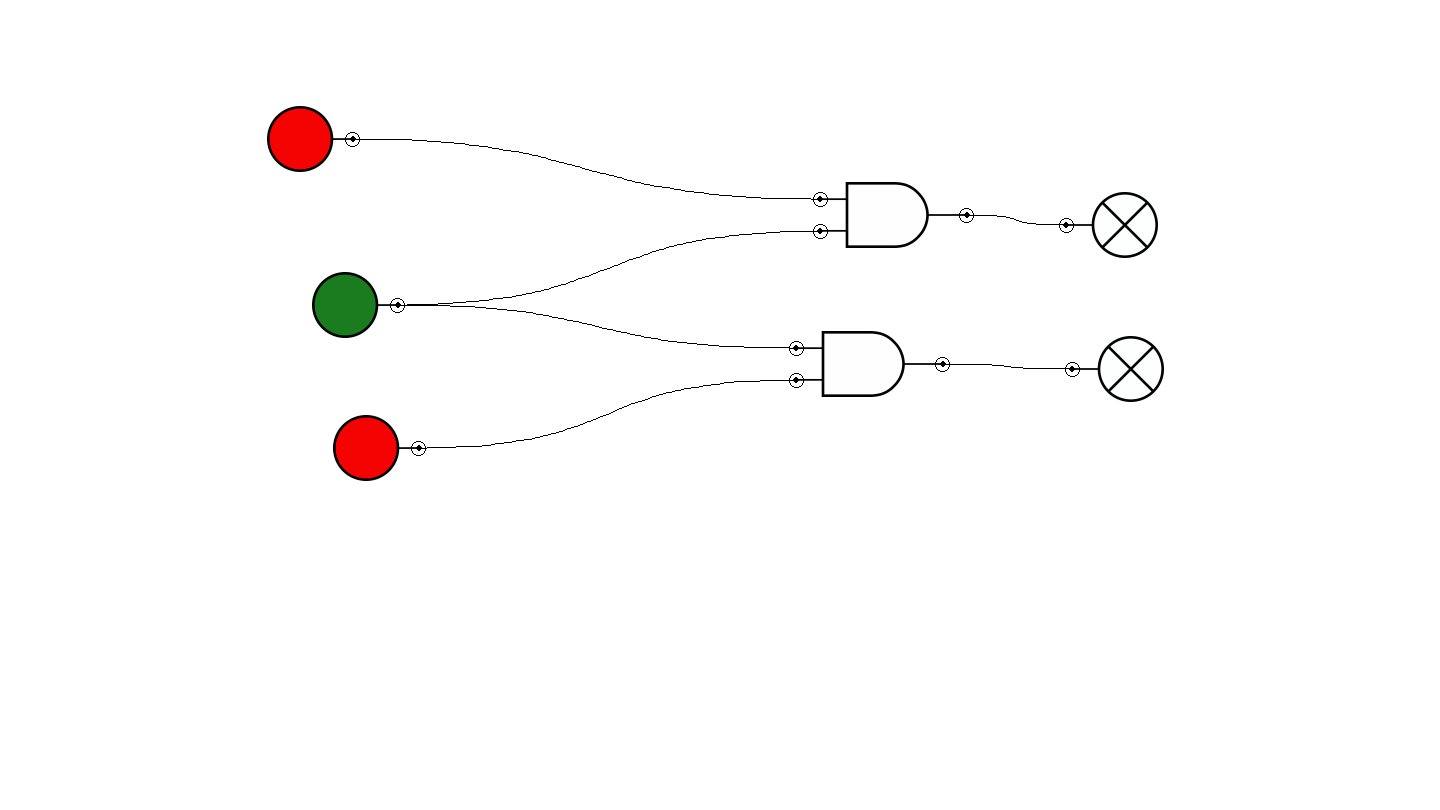and: (789, 331, 950, 397), (813, 182, 974, 248)
bulb: (1059, 192, 1158, 258), (1065, 336, 1164, 402)
switch_False: (267, 106, 360, 172), (333, 415, 426, 481)
switch_True: (312, 272, 405, 338)
